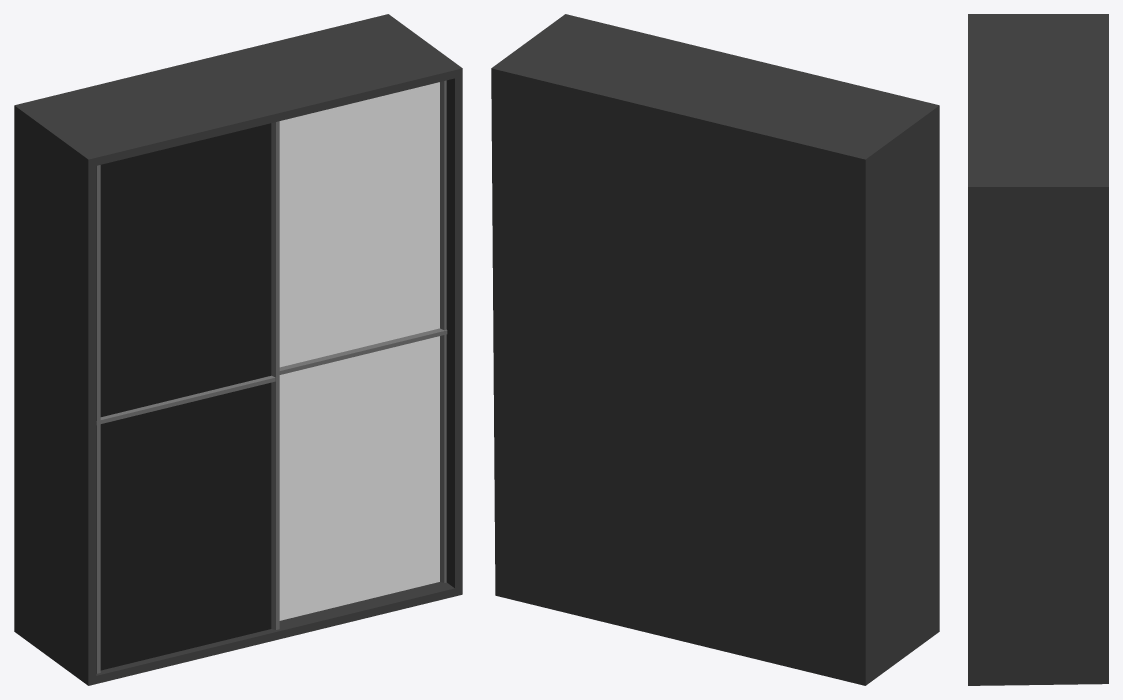
The model's file is closet_019.fbx.
The picture shows the model from 3 angles, left to right: view 1: azimuth 30°, elevation 25°; view 2: azimuth 150°, elevation 25°; view 3: azimuth 270°, elevation 25°; orthographic projection. The views are drawn at different scales.
Parts seen in each view (by area): view 1: closet_019; view 2: closet_019; view 3: closet_019.
Boxes of the visible parts, box(x1,y1,x2,y2) form: closet_019: box(14, 14, 462, 685); closet_019: box(491, 14, 939, 685); closet_019: box(968, 14, 1108, 685).
Bounding box in the file's own units: 209 × 71.81 × 281.
